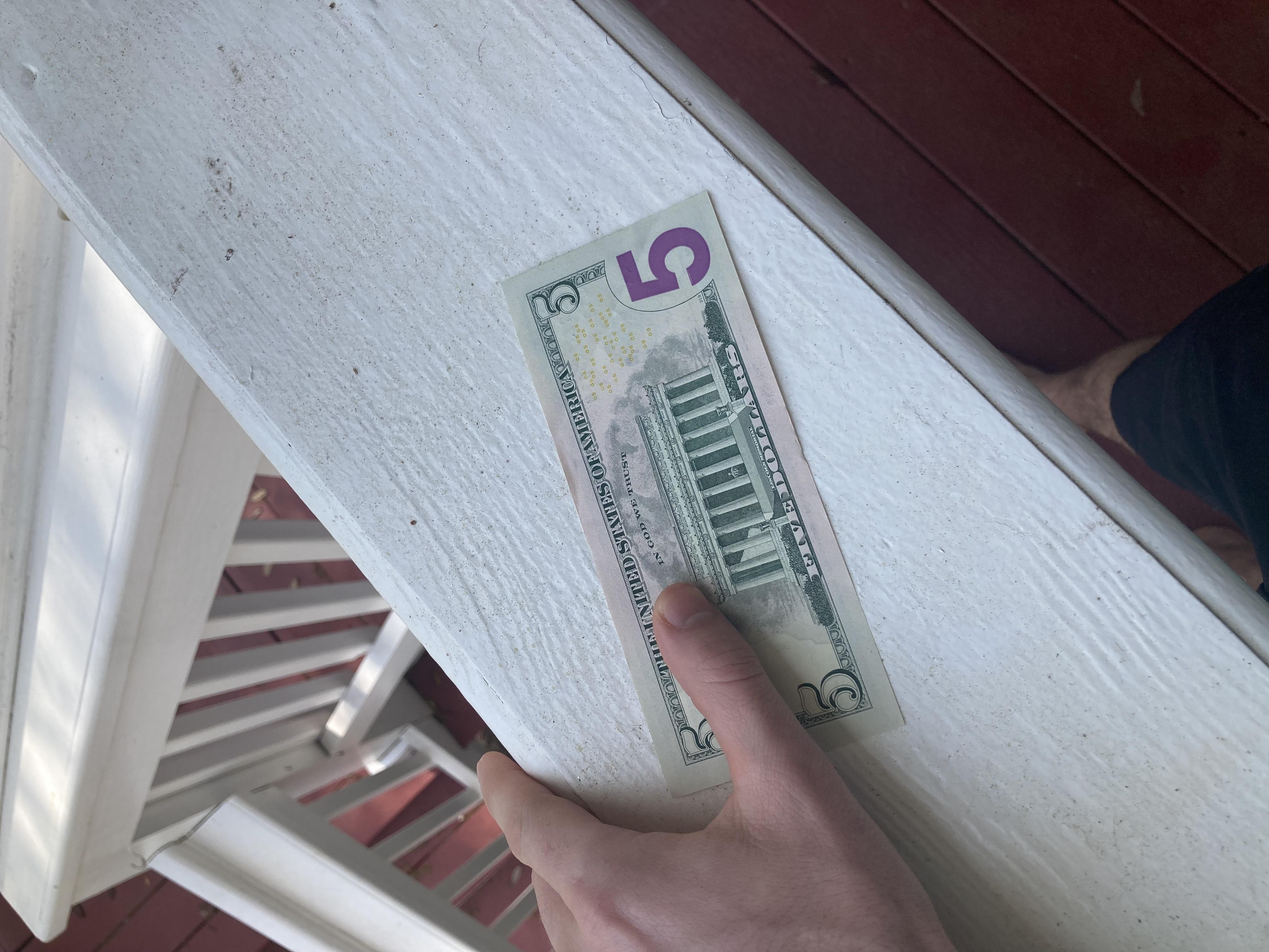five-back: (202, 375, 1019, 683)
